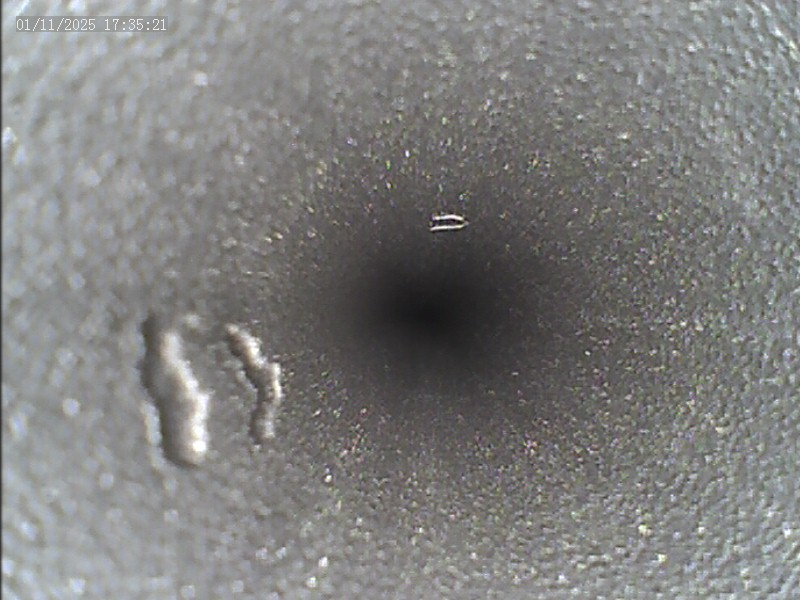defective_area: (133, 309, 287, 464)
